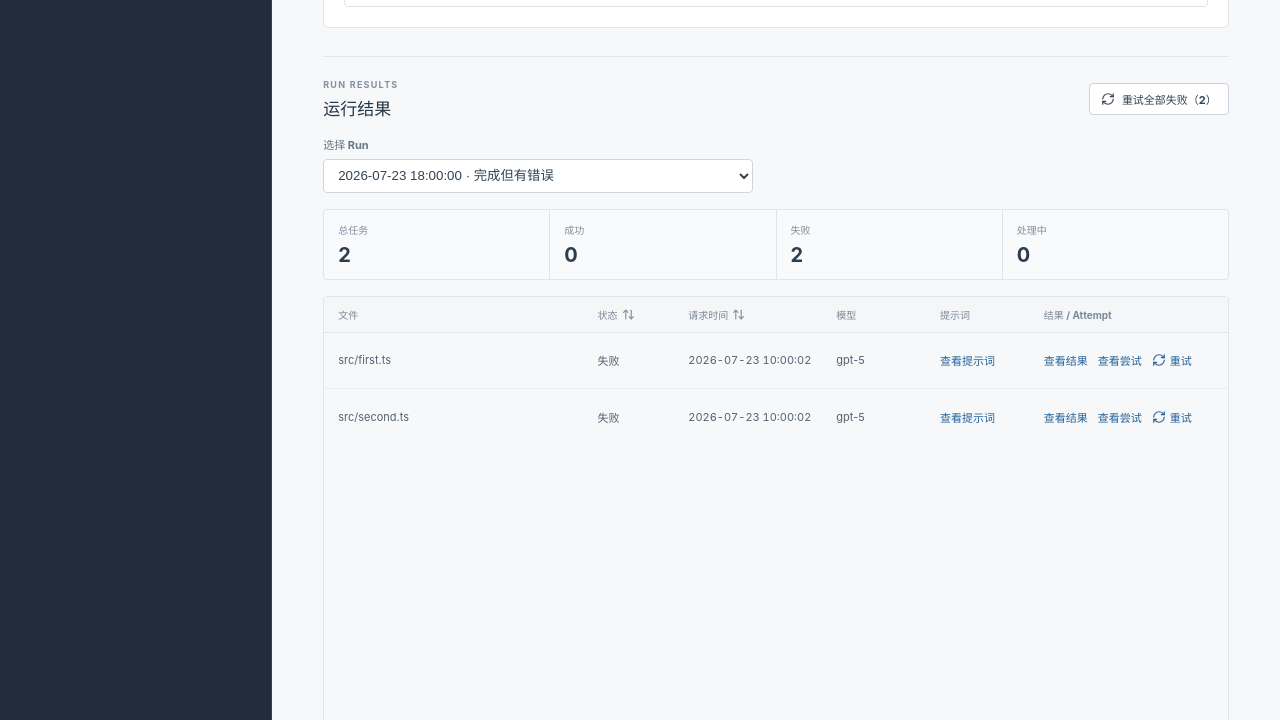
Test case: App retry flow › shows a safe error when the source no longer matches the Task
The image size is (1280, 720).
(page scrolled)
Step 1. Click the button with aria-label "查看提示词 src/first.ts" → point(968, 360), box [940,352,995,368]
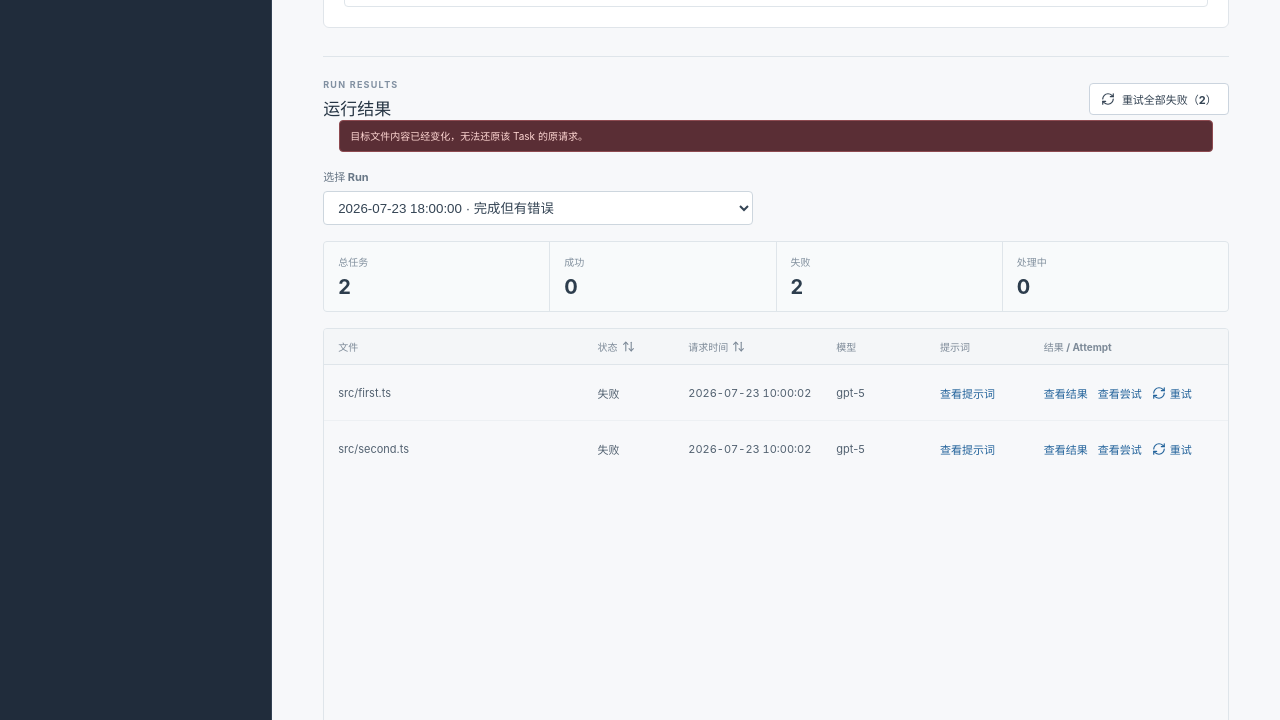
Check: the text "目标文件内容已经变化，无法还原该 Task 的原请求。" is shown, box [339,120,1213,152]
